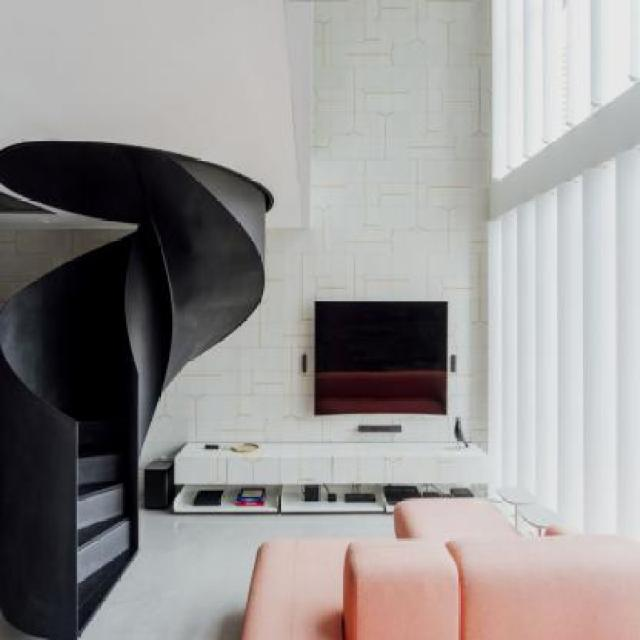stair: (0, 212, 146, 639)
